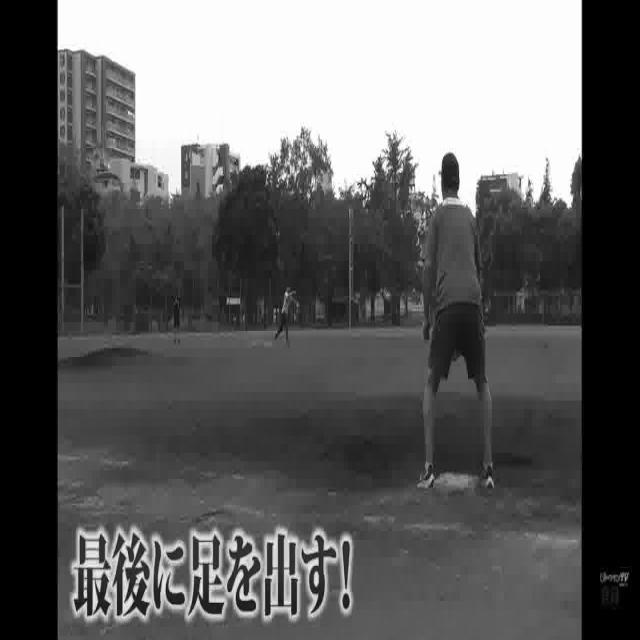base: (436, 473, 479, 493)
shoe: (418, 460, 437, 489), (479, 462, 497, 492)
